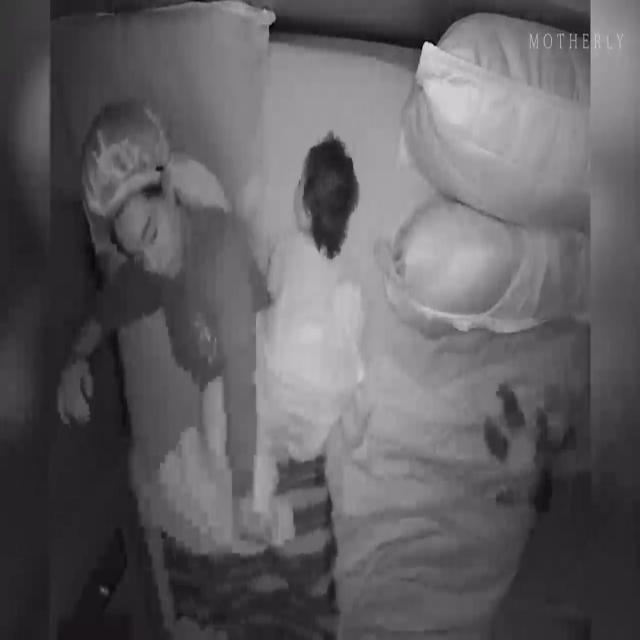baby: (247, 136, 364, 543)
